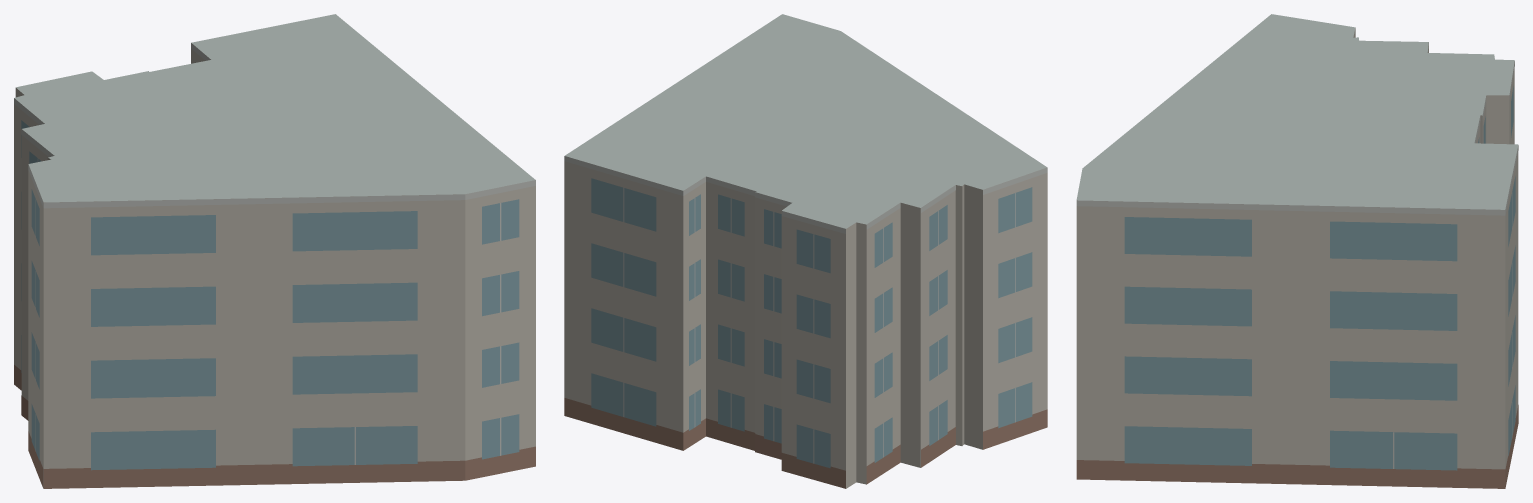
The model's file is survey-upis-32493557.glb.
The picture shows the model from 3 angles, left to right: view 1: azimuth 30°, elevation 25°; view 2: azimuth 150°, elevation 25°; view 3: azimuth 270°, elevation 25°; orthographic projection. The views are drawn at different scales.
Parts seen in each view (by area): view 1: survey-upis-32493557.tmp; view 2: survey-upis-32493557.tmp; view 3: survey-upis-32493557.tmp.
Boxes of the visible parts, x1,y1,x2,y2 form: survey-upis-32493557.tmp: (14, 14, 535, 488); survey-upis-32493557.tmp: (564, 14, 1047, 488); survey-upis-32493557.tmp: (1076, 14, 1518, 488).
Size of the model in its own units: 18 by 11.95 by 17.17.
